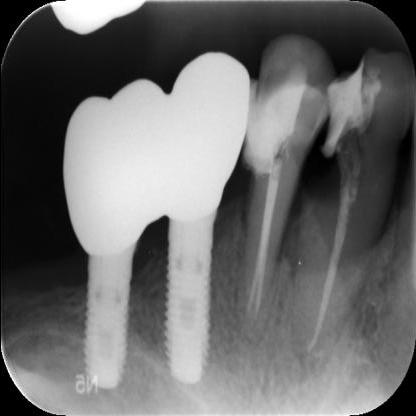ITI: (163, 216, 217, 384), (78, 252, 135, 395)
